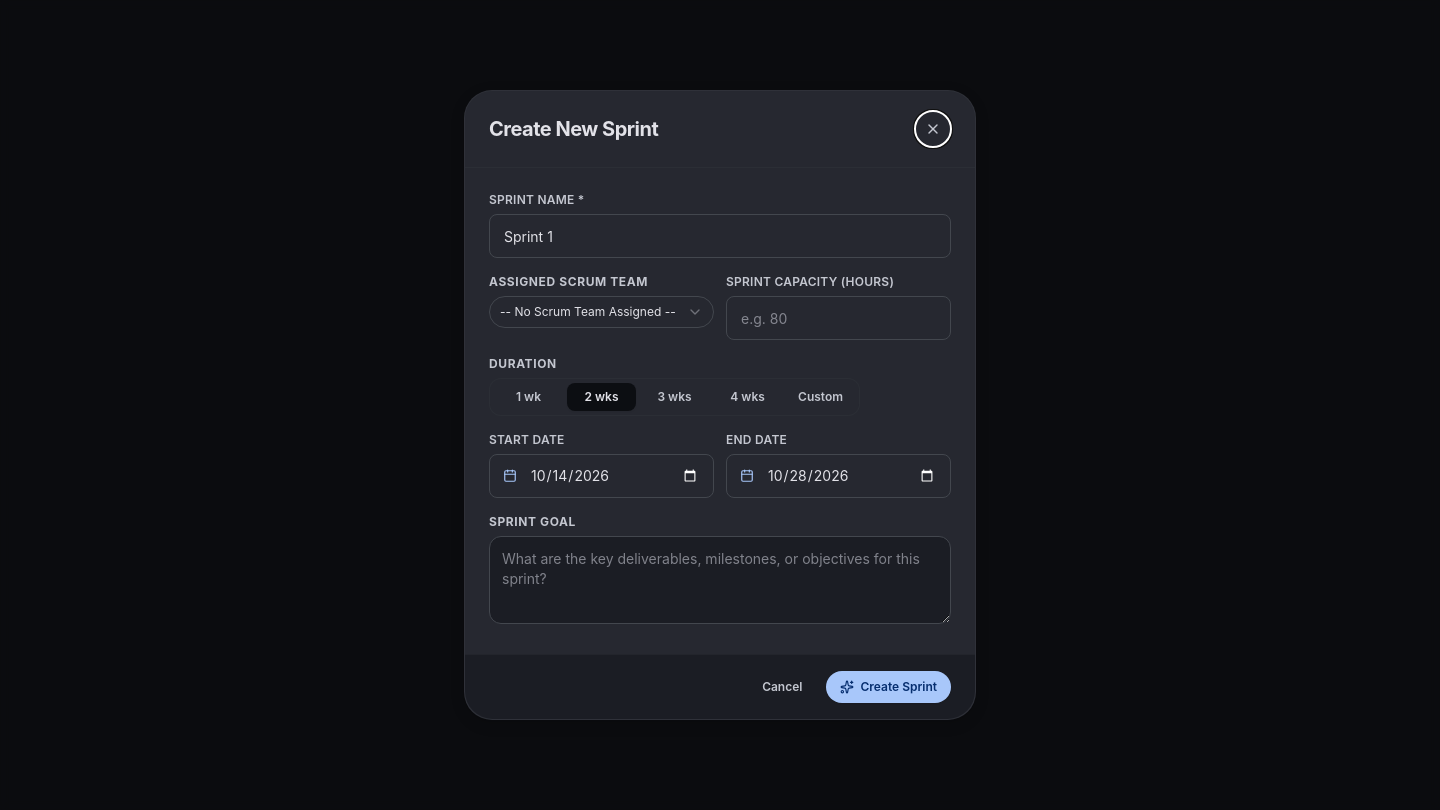
Test: SprintFormModal Component › validates that end date must be after start date
The width and height of the screenshot is (1440, 810).
Type "2026-10-15" into the date field labelled "Start Date" at (602, 476), box x1=489 y1=454 x2=714 y2=498
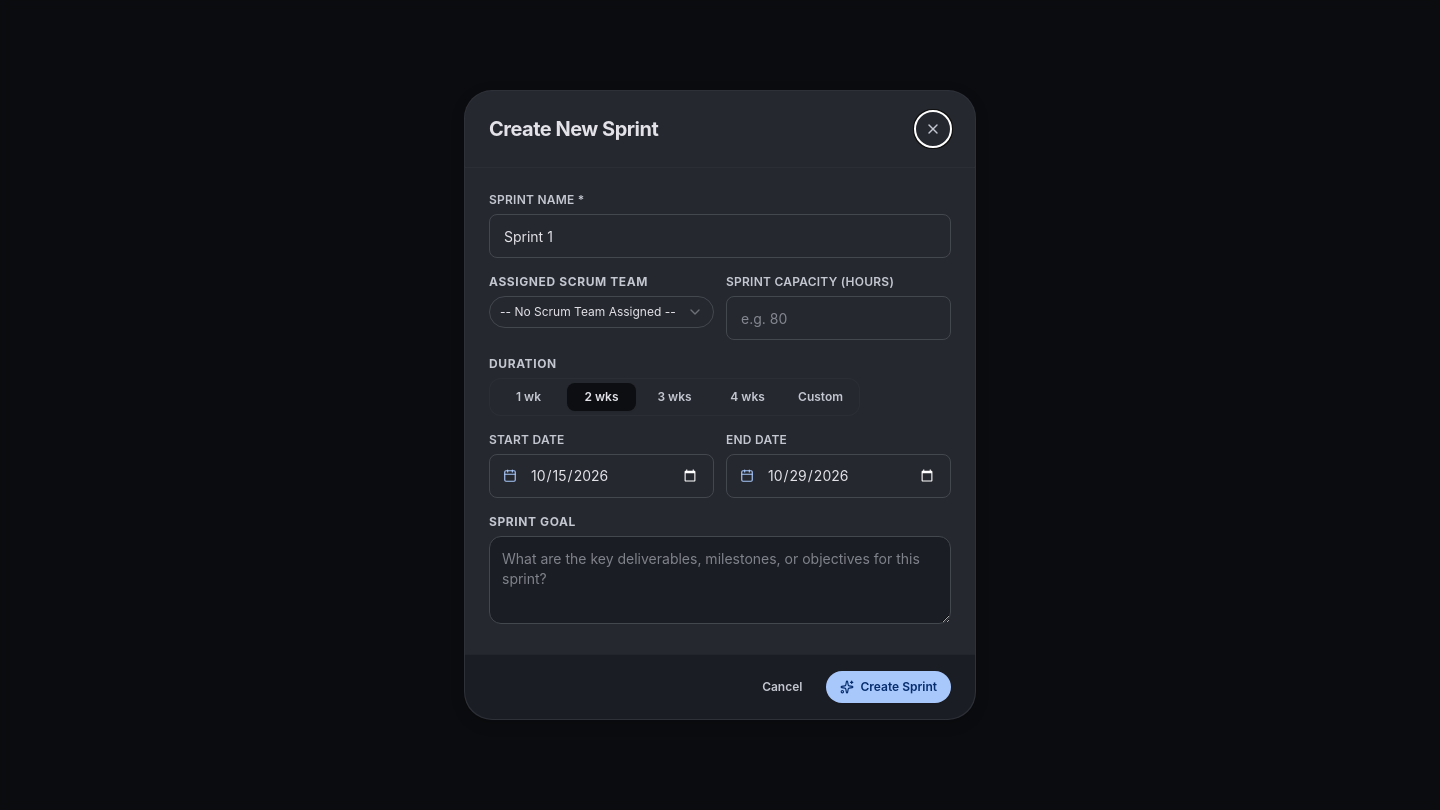
Type "2026-10-10" into the date field labelled "End Date" at (838, 476), box x1=726 y1=454 x2=951 y2=498
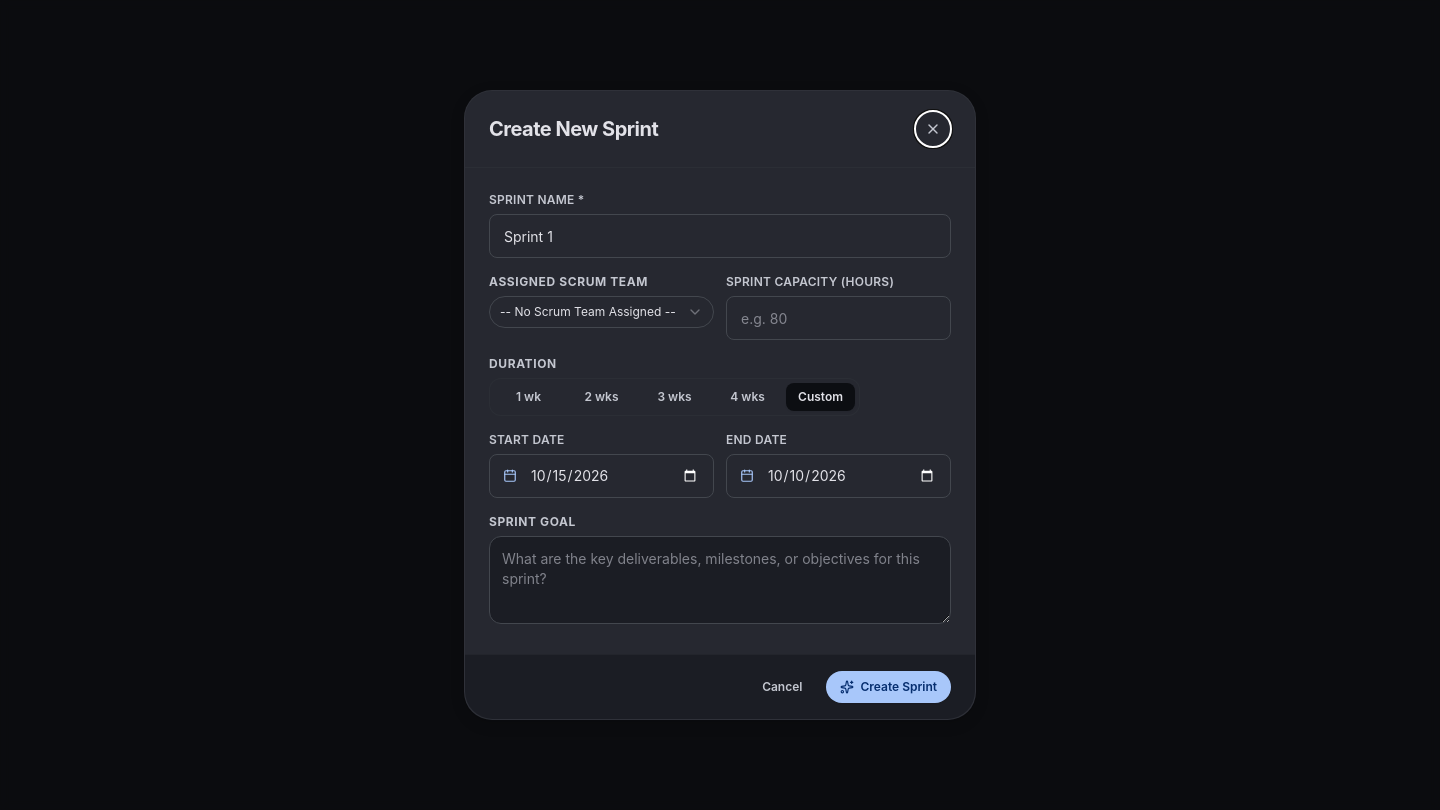
Click the button "Create Sprint" at (889, 687), box x1=826 y1=671 x2=951 y2=703
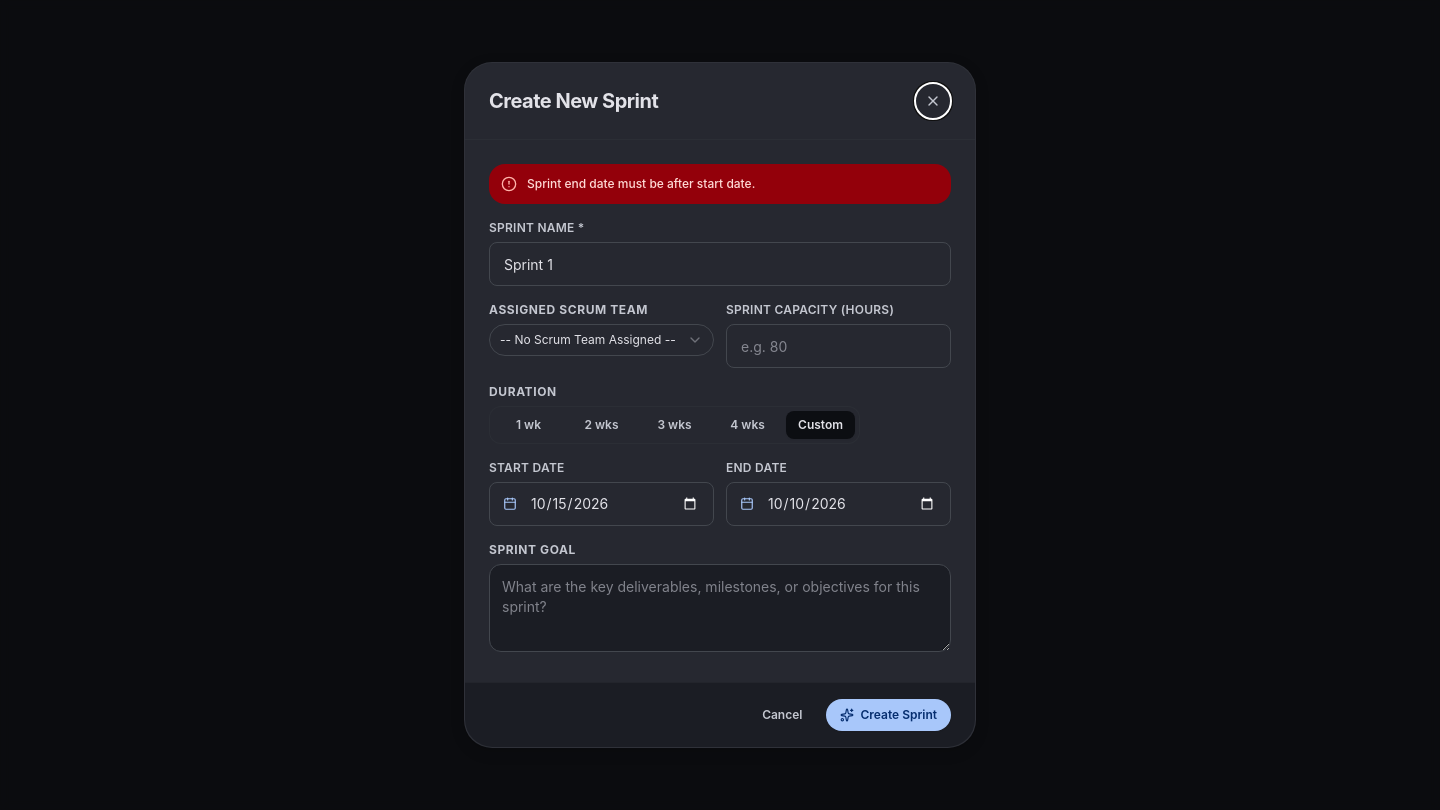
expect the text "Sprint end date must be after start date." is shown: met, box x1=527 y1=176 x2=755 y2=191
